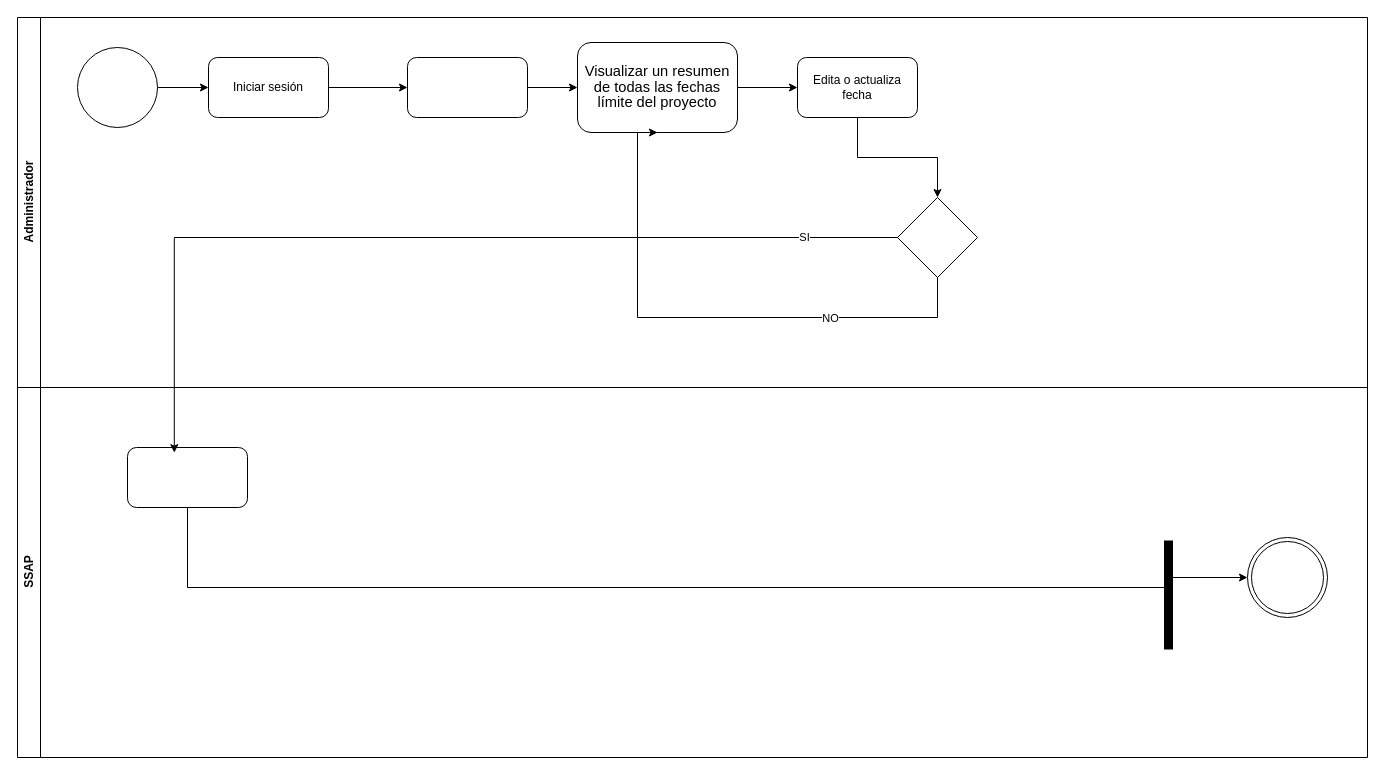
Some shapes in this 1385 by 775 pixel diagram are drawn without their labels. Each missing label, with the centre of its shape:
"Accede a visualizar fechas límite" belongs at [467,87].
"Confirma fecha" belongs at [937,237].
"Se notifica fecha limite" belongs at [187,477].
